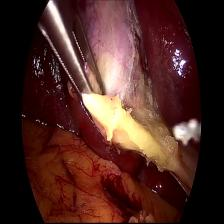Grasper: (37, 0, 110, 118)
